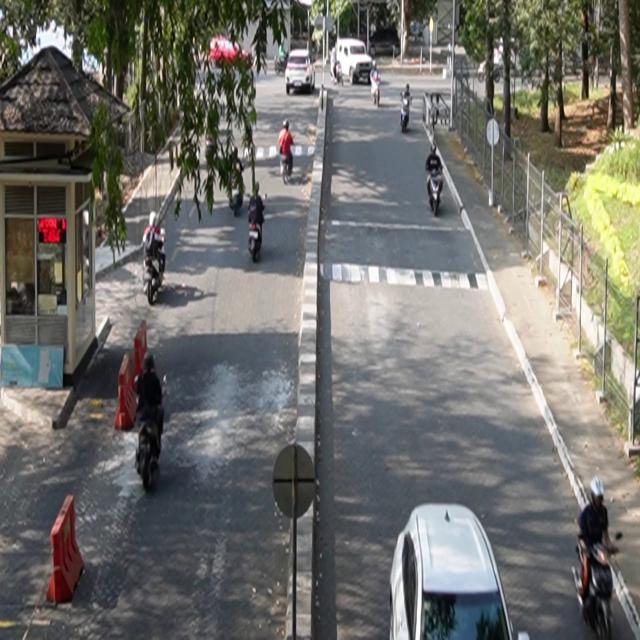car: (389, 503, 532, 640), (286, 49, 316, 95)
